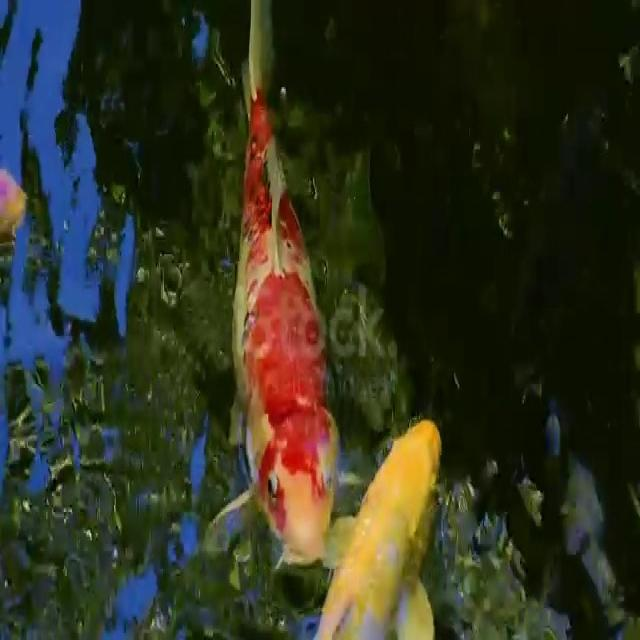fish: (224, 0, 345, 569), (315, 411, 447, 640)
